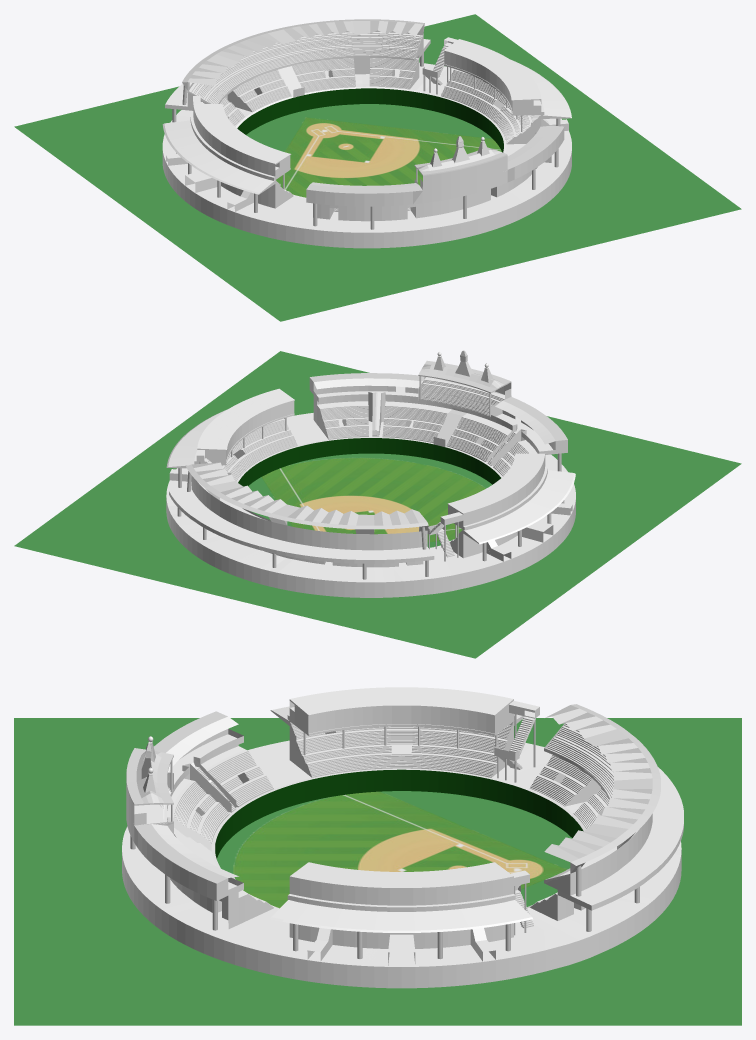
The model's file is BaseballStadium.glb.
The picture shows the model from 3 angles, top to bottom: view 1: azimuth 30°, elevation 25°; view 2: azimuth 150°, elevation 25°; view 3: azimuth 270°, elevation 25°; orthographic projection. The views are drawn at different scales.
Parts seen in each view (by area): view 1: baseball_studium; view 2: baseball_studium; view 3: baseball_studium.
Part boxes in pixels (x1,y1,x2,y2): baseball_studium: [14, 14, 741, 321]; baseball_studium: [14, 350, 741, 658]; baseball_studium: [14, 687, 741, 1025].
Bounding box in the file's own units: 310 × 59.94 × 310.
Materials: 7 (1 with a texture image).
